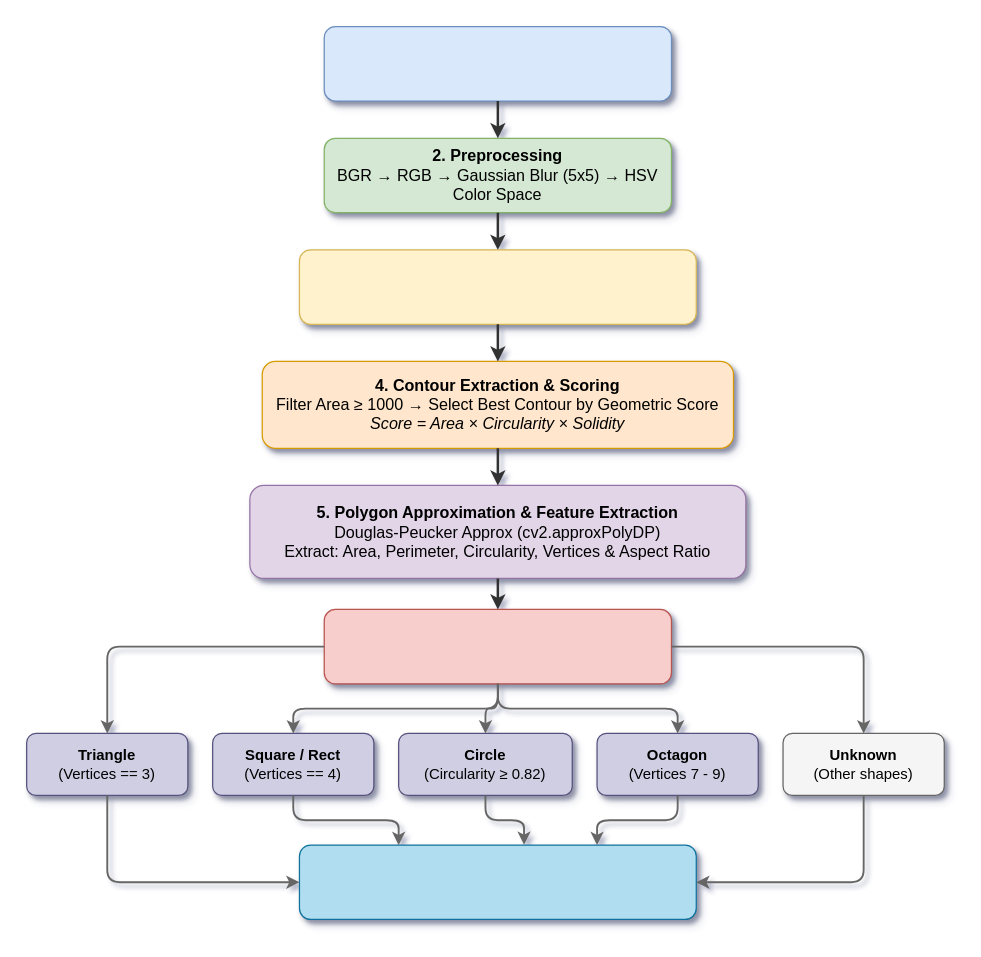
Image size: 981x957. Some labels were removed from this diagram. Each missing label, with the centre of its shape:
1. Image Input Load Traffic Sign Image from Dataset: the point at 498,65
3. Multi-Color HSV Segmentation Combine Red, Blue & Yellow HSV Threshold Masks: the point at 498,288
6. Rule-Based Shape Classification (Vertices + Circularity + Aspect Ratio): the point at 498,648
7. Output Visualization Annotate Green Contour & Blue Shape Label on RGB Image: the point at 498,883
